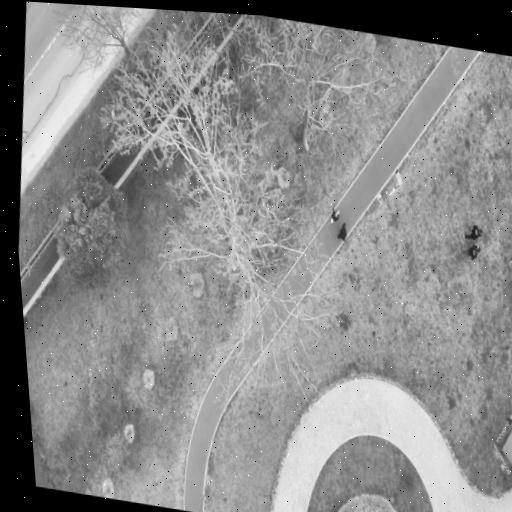person: (462, 244, 480, 259), (463, 225, 482, 239), (338, 222, 347, 240), (331, 208, 339, 223)
